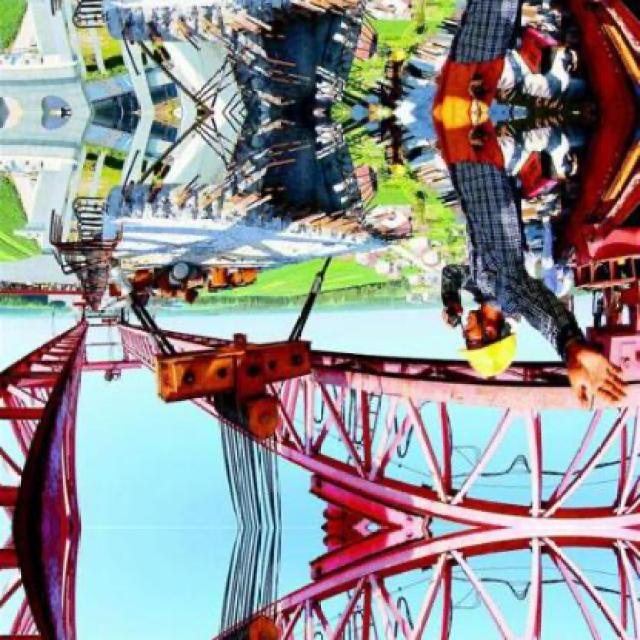con casco: (432, 271, 518, 394)
